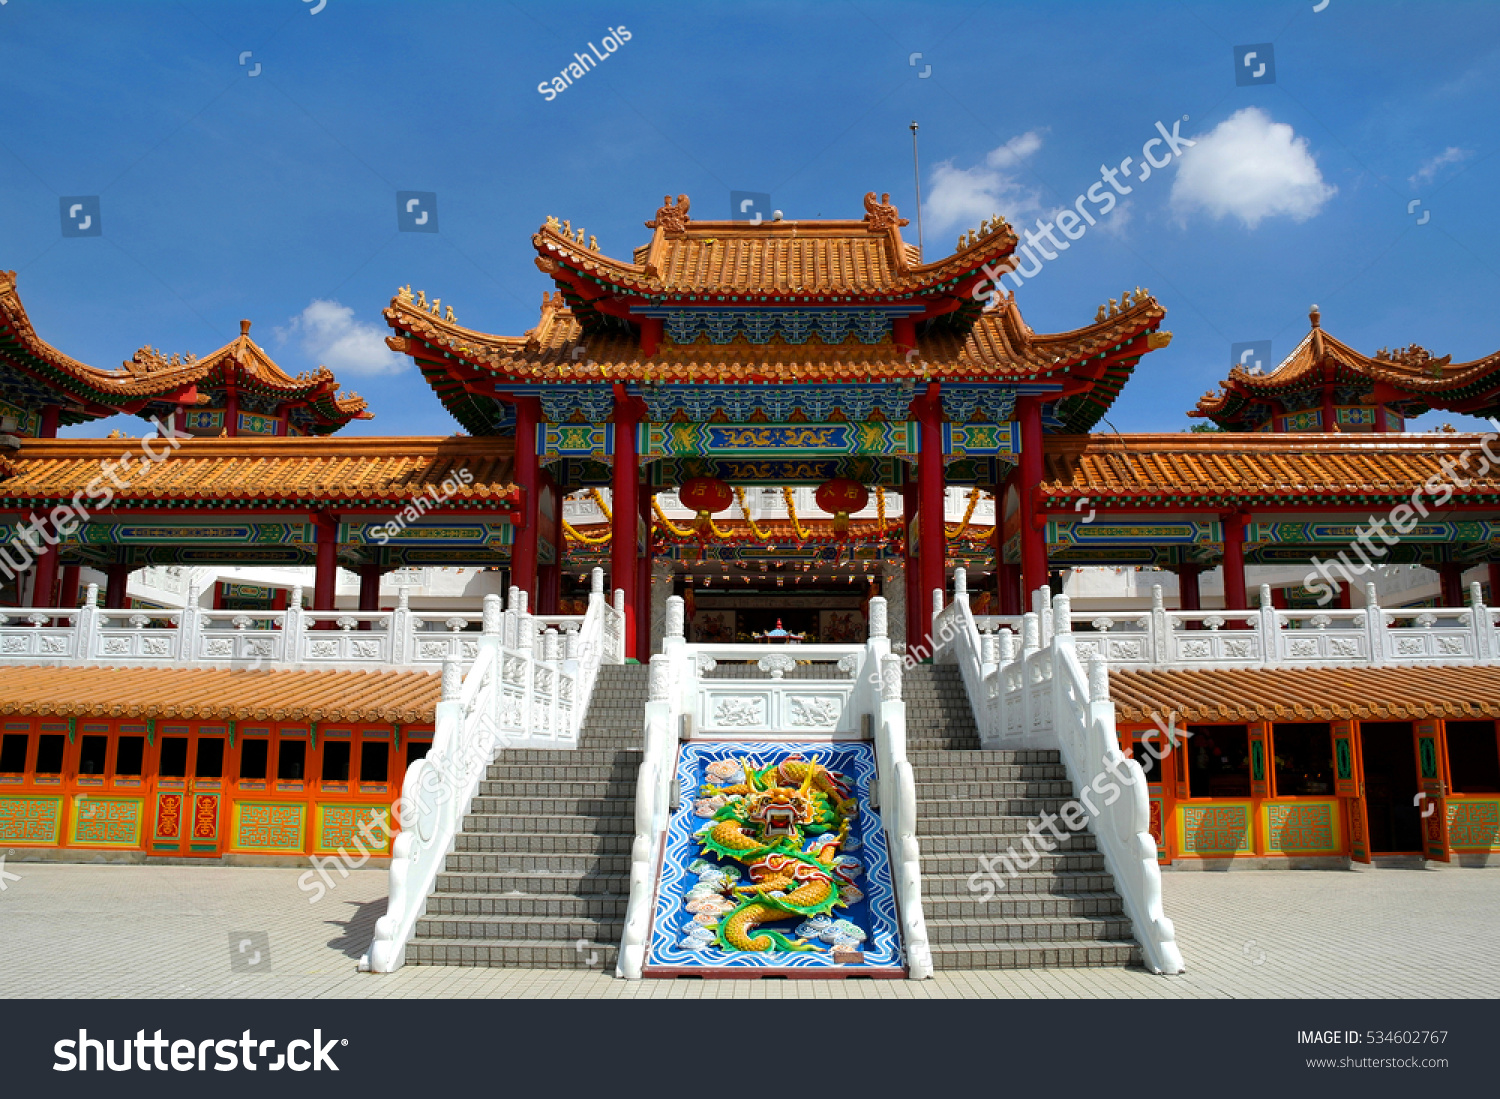Buddhist Temple: (391, 187, 1120, 692)
